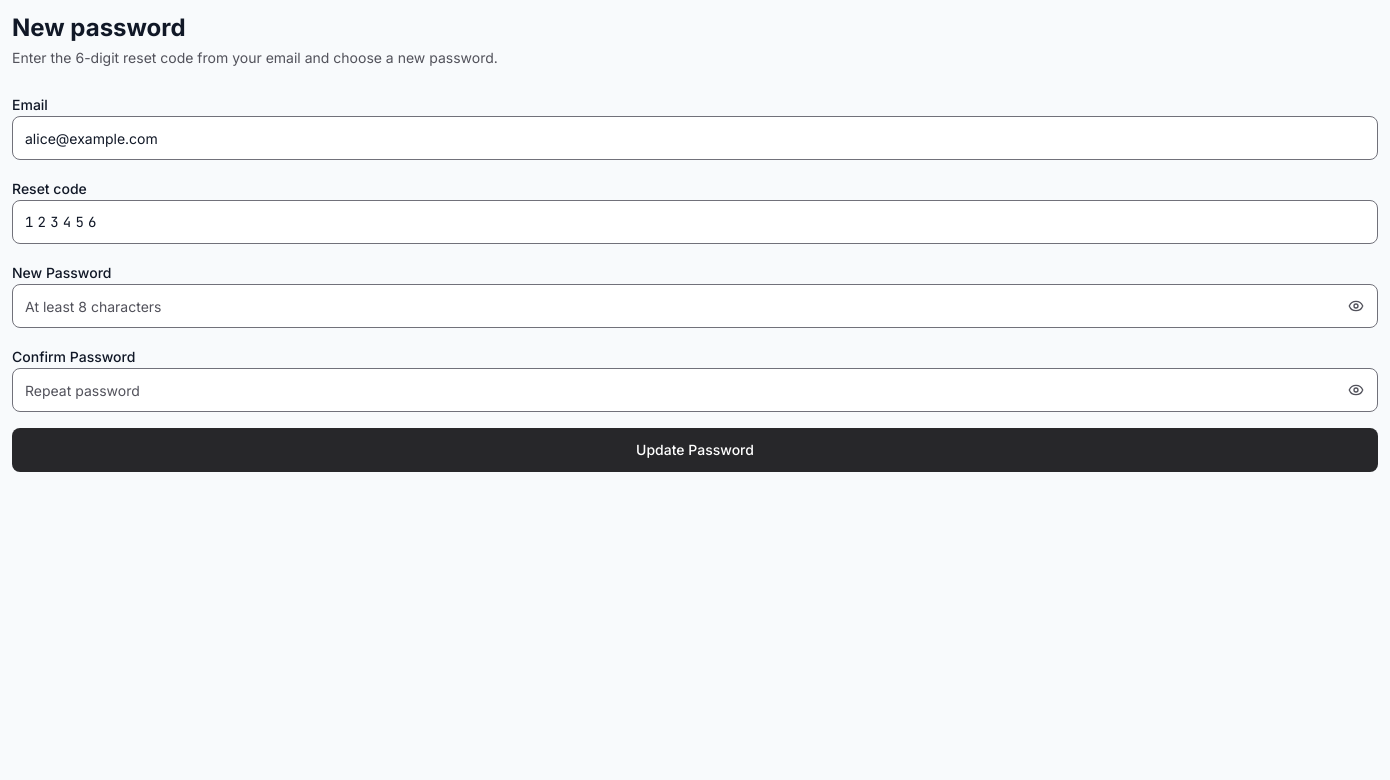
Scenario: ResetPasswordPage › shows an error message when the reset request fails
Type "newpassword1" into the password field labelled "New Password" at [695, 306], box [12, 284, 1378, 328]
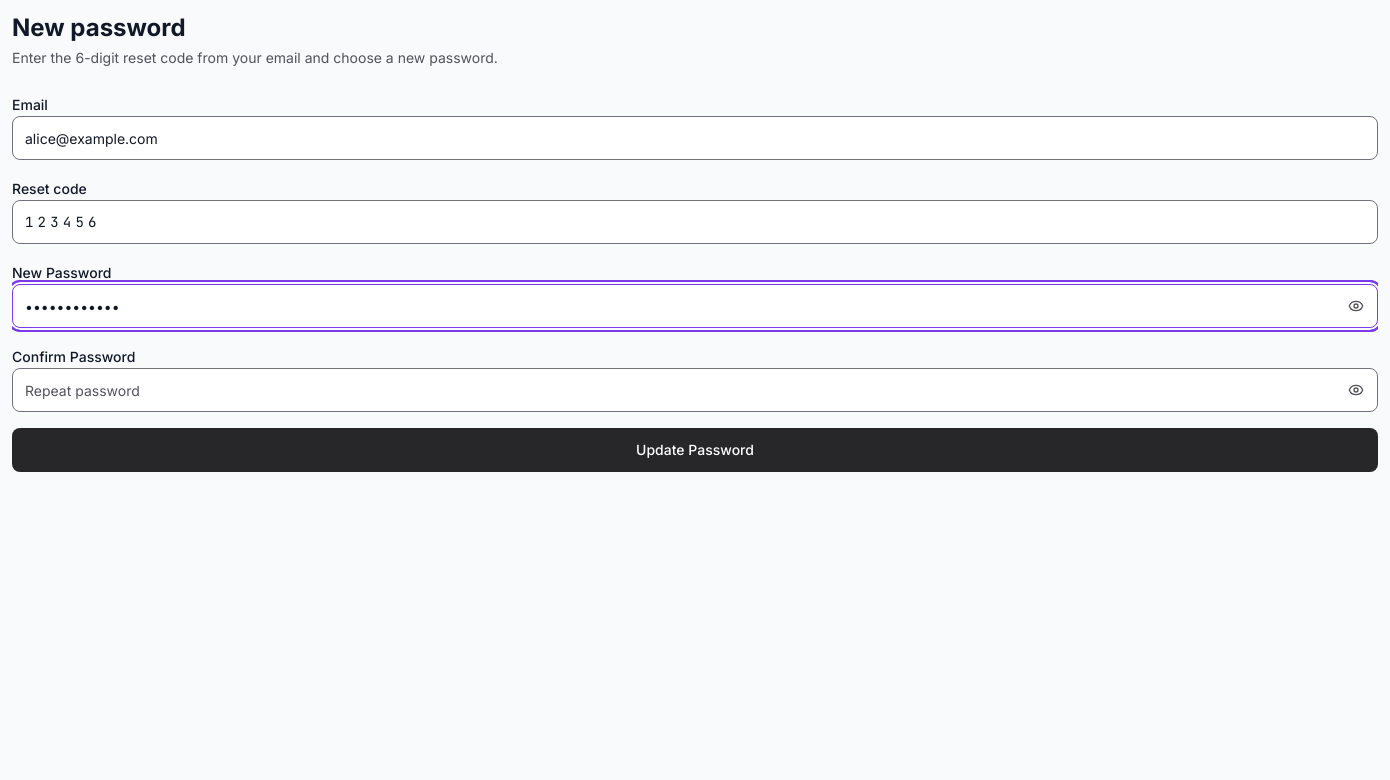
Type "newpassword1" into the password field labelled "Confirm Password" at [695, 390], box [12, 368, 1378, 412]
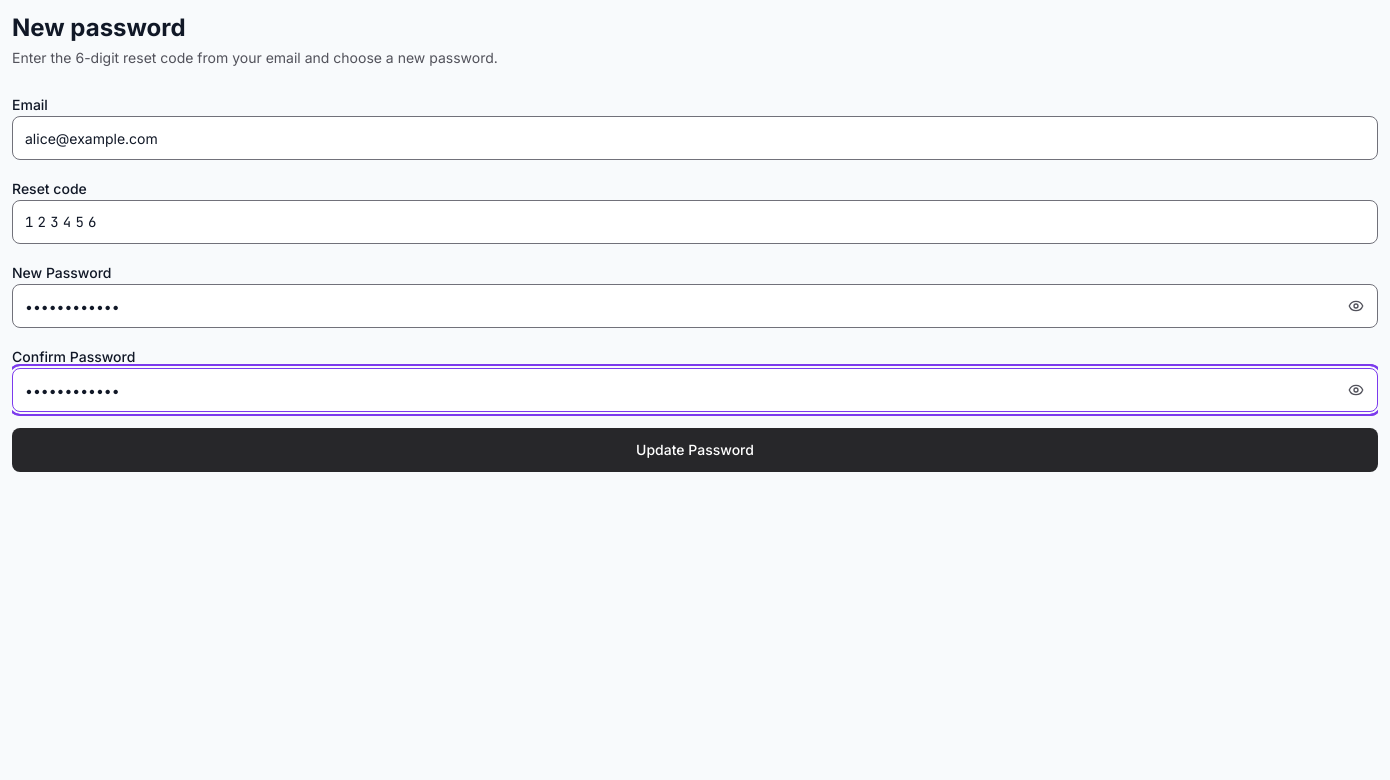
Click the button "Update Password" at [695, 450], box [12, 428, 1378, 472]
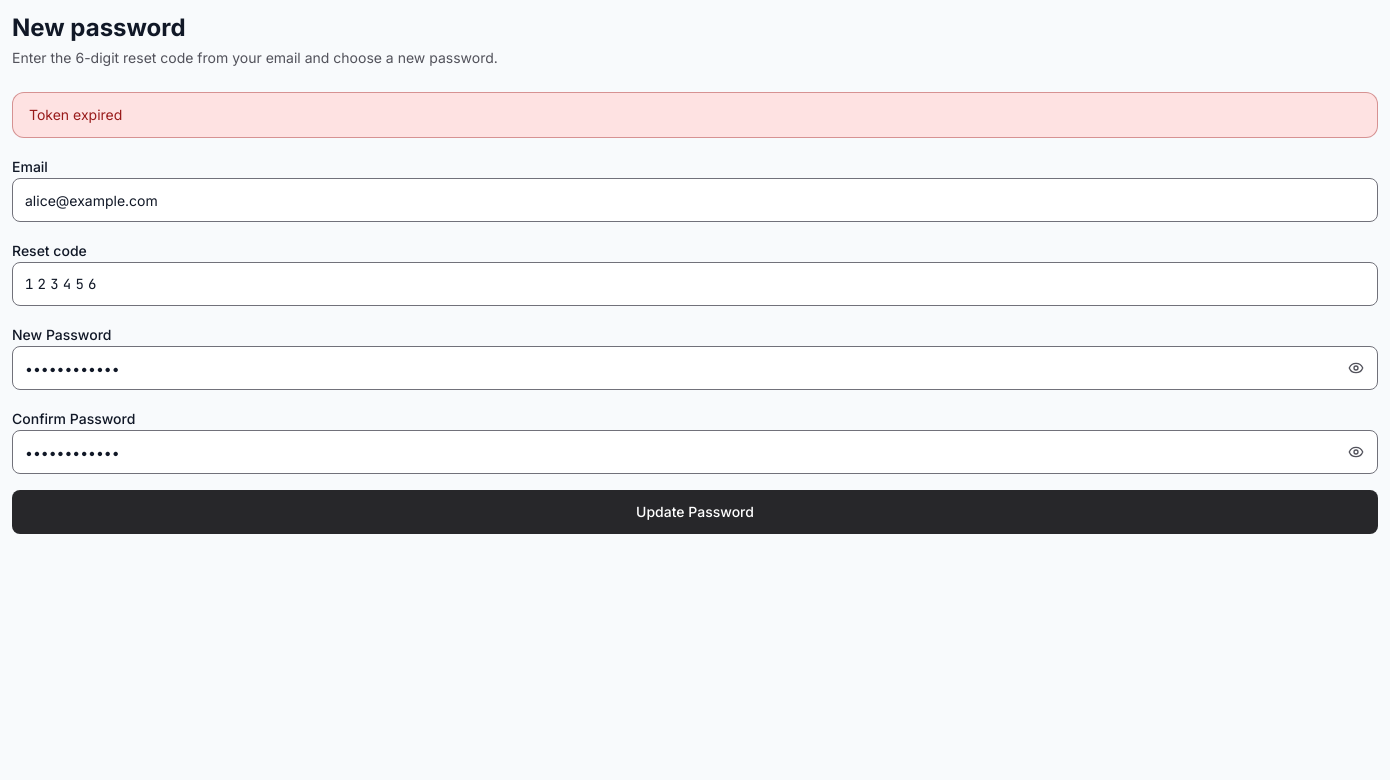
Result: the text "Token expired" is shown at [29, 106, 122, 123]
